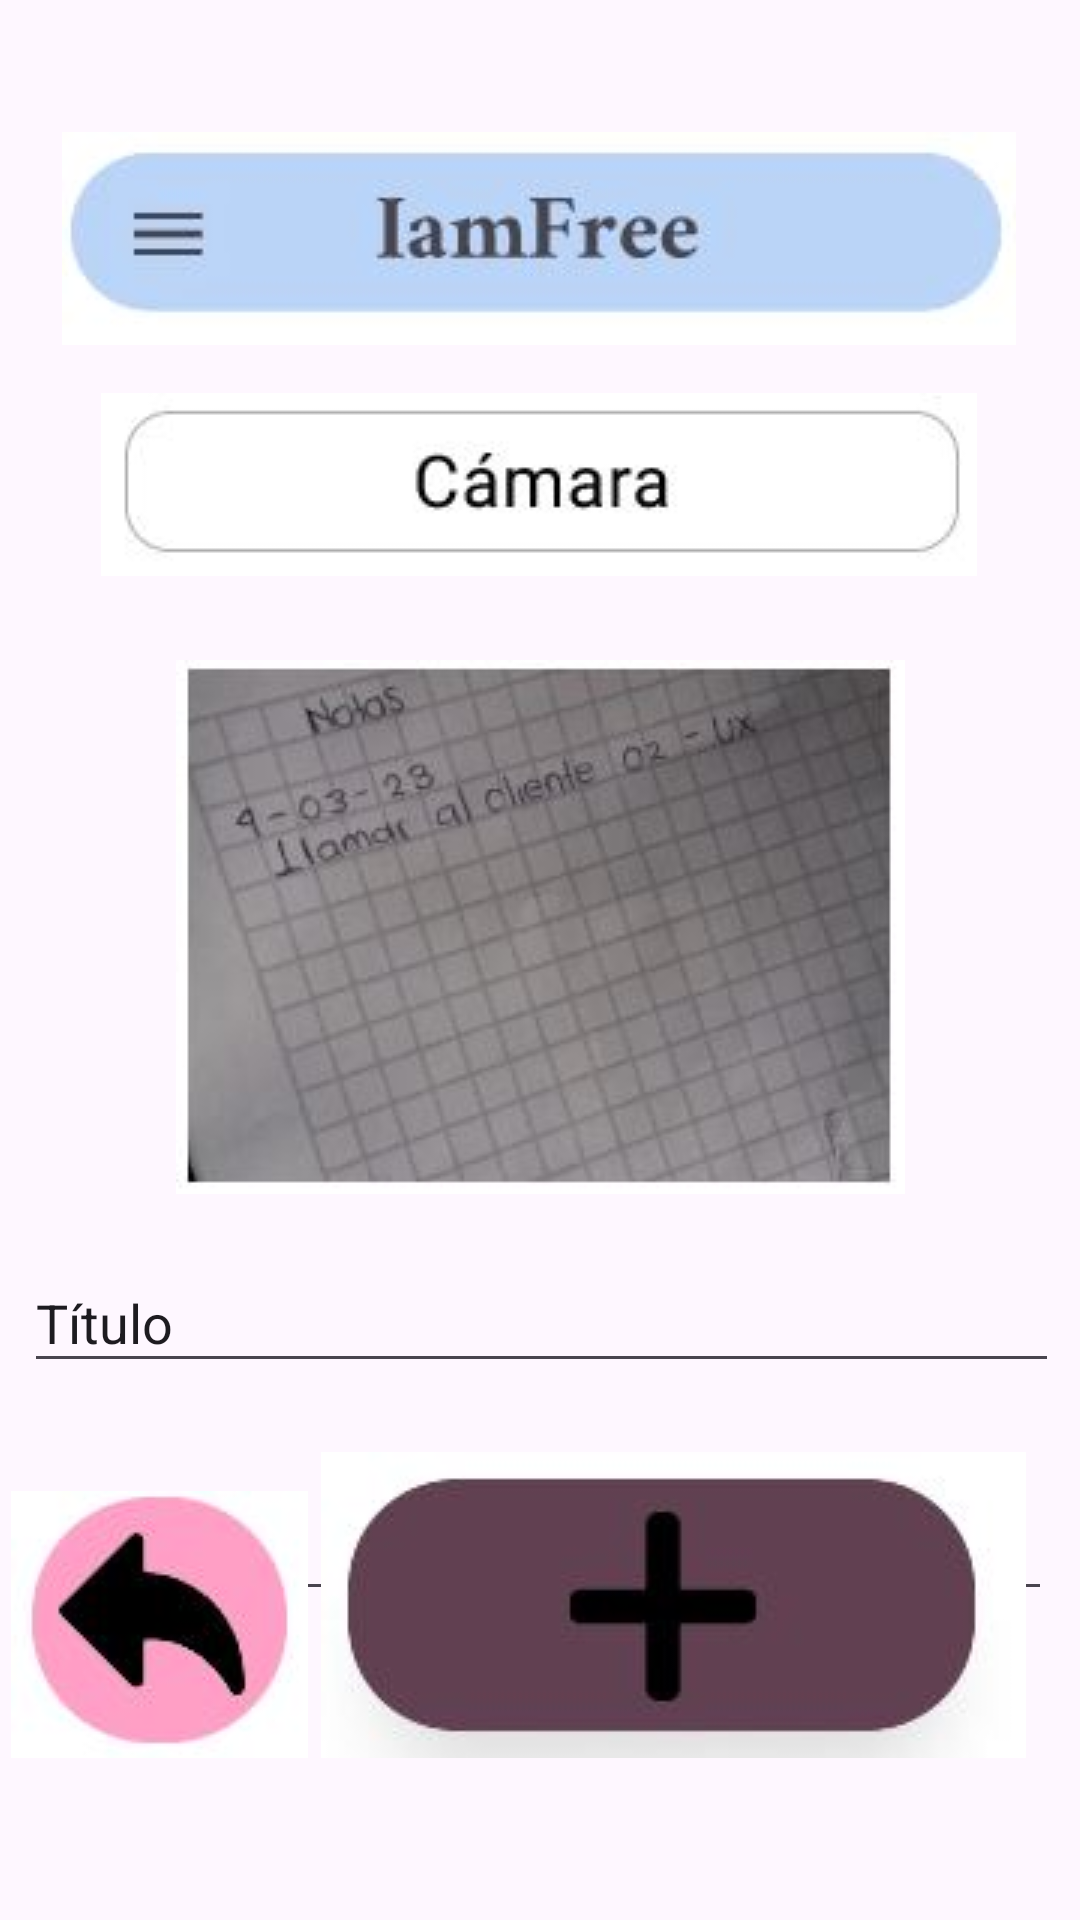

Locate icon controls on the screen. Image size 1080*1920, boxes as (x1, y1, x2, y2).
atras: (31, 1496, 288, 1744)
